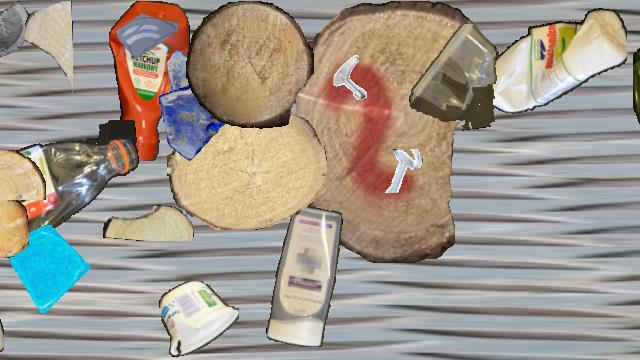glass: (7, 225, 95, 313), (157, 79, 241, 163), (117, 1, 179, 63), (167, 46, 223, 102), (0, 1, 33, 61)
metal: (327, 52, 379, 104), (380, 149, 424, 193)
plastic: (468, 1, 626, 121), (0, 120, 139, 238), (109, 1, 189, 161), (265, 206, 343, 346), (407, 24, 499, 130), (159, 281, 239, 357), (633, 37, 640, 209), (0, 169, 3, 359)
wood: (296, 1, 500, 263), (167, 109, 327, 229), (186, 1, 314, 129), (25, 1, 73, 97), (103, 205, 193, 241), (0, 150, 45, 200), (0, 200, 28, 258)
